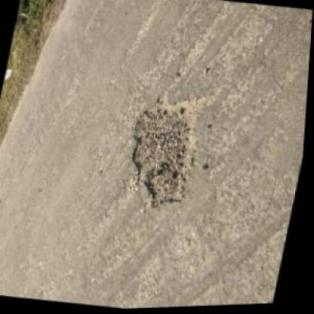Hueco: (119, 85, 209, 215)
